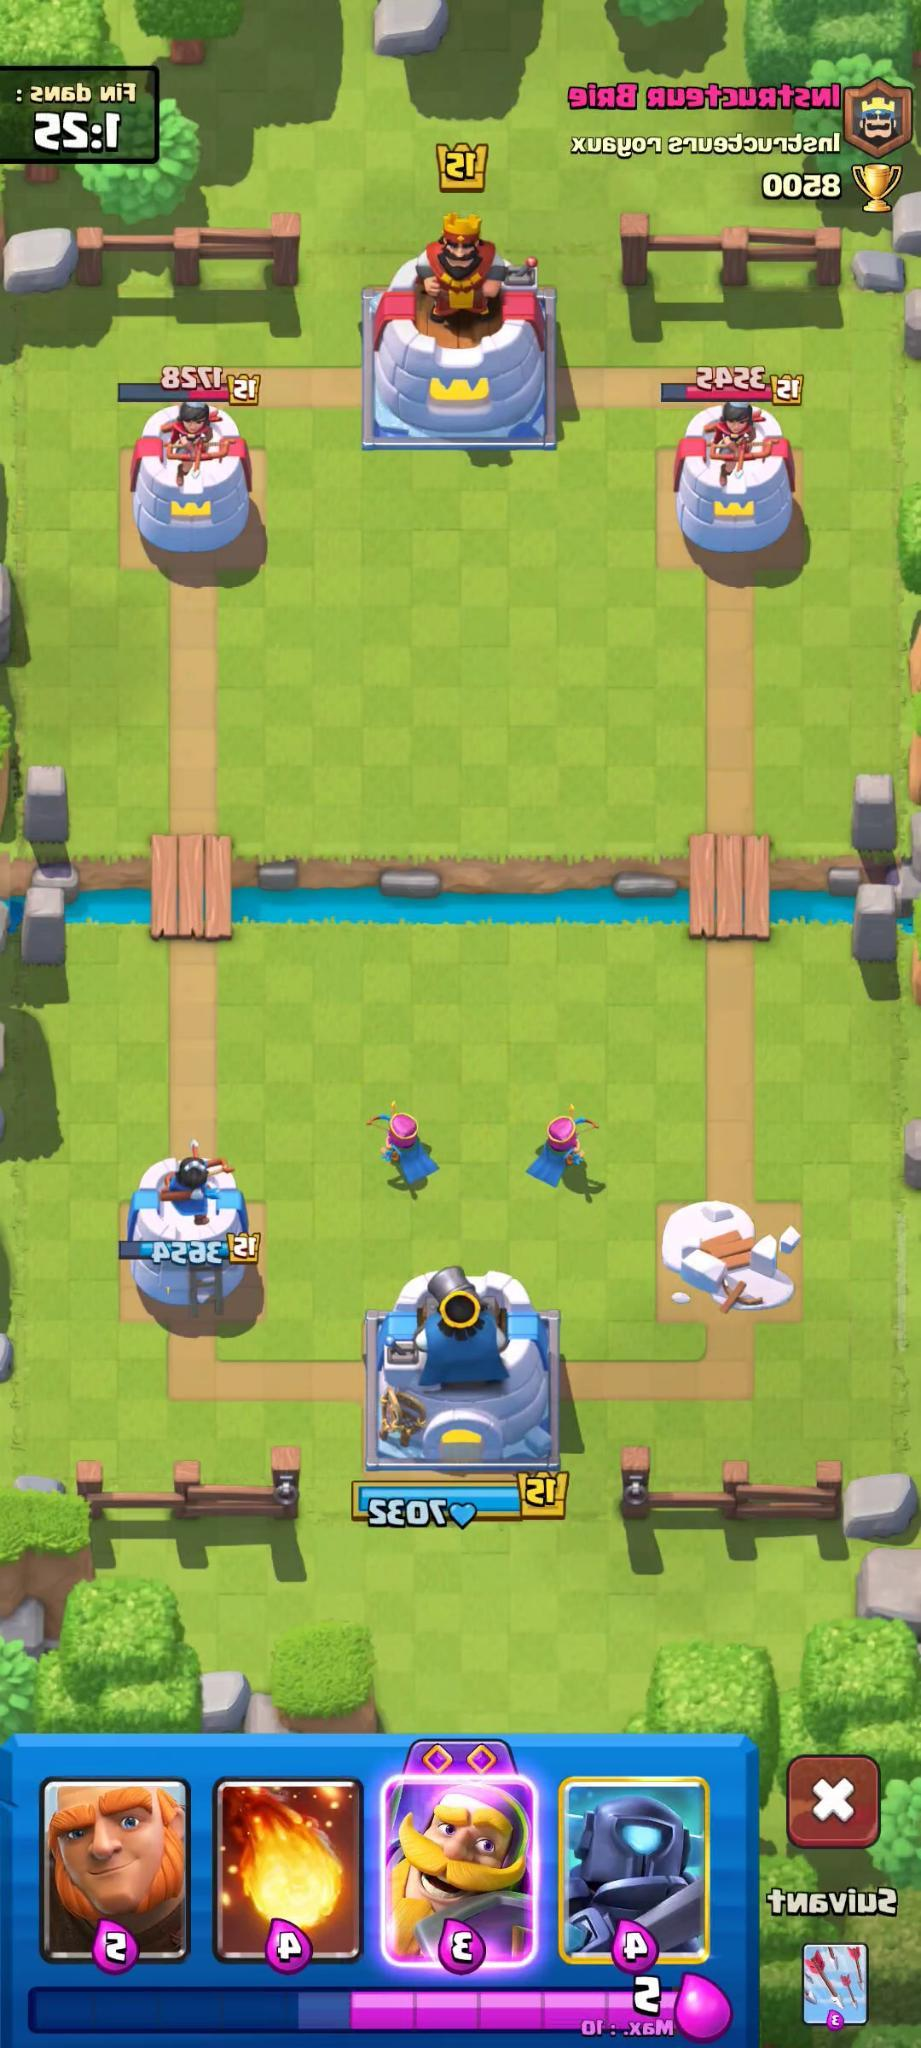player_archers: (358, 1096, 443, 1194), (521, 1099, 605, 1196)
